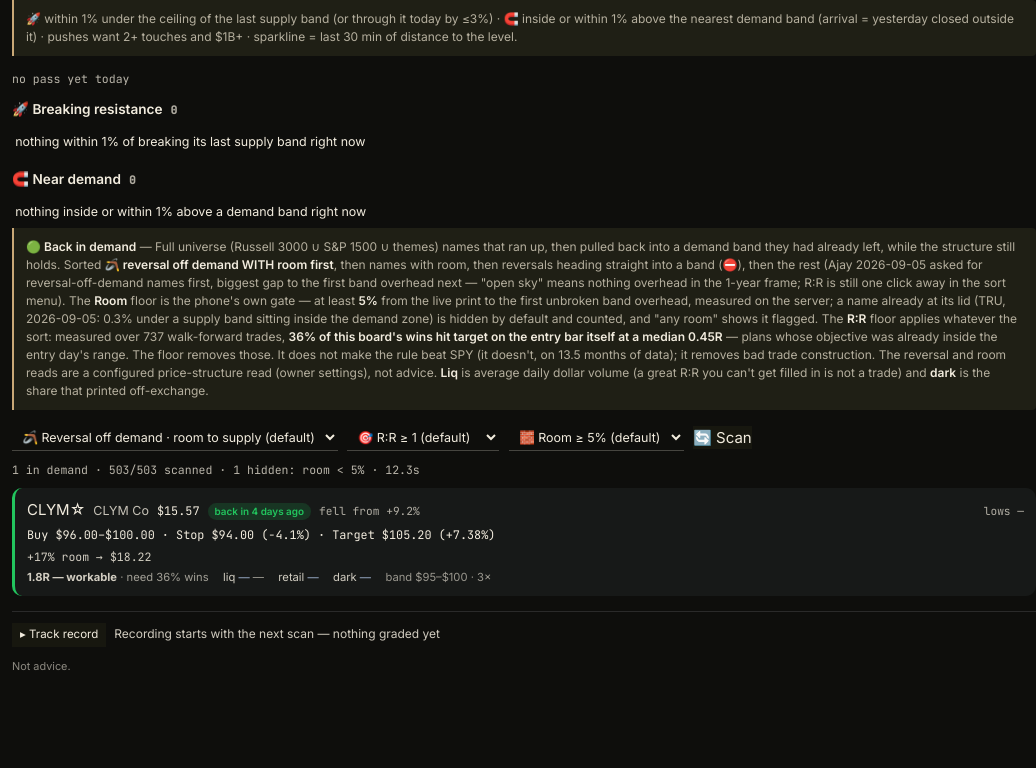
DemandReentryPanel — 5% room floor (Ajay 2026-09-05, TRU) › "any room" re-asks with min_room=0, shows TRU with the ⛔ flag and drops the hidden count
Check: the link "CLYM" is shown, box [27,500,70,519]
Select "🧱 any room" in the dropdown named "Room floor": (596, 438) [509,424,684,451]
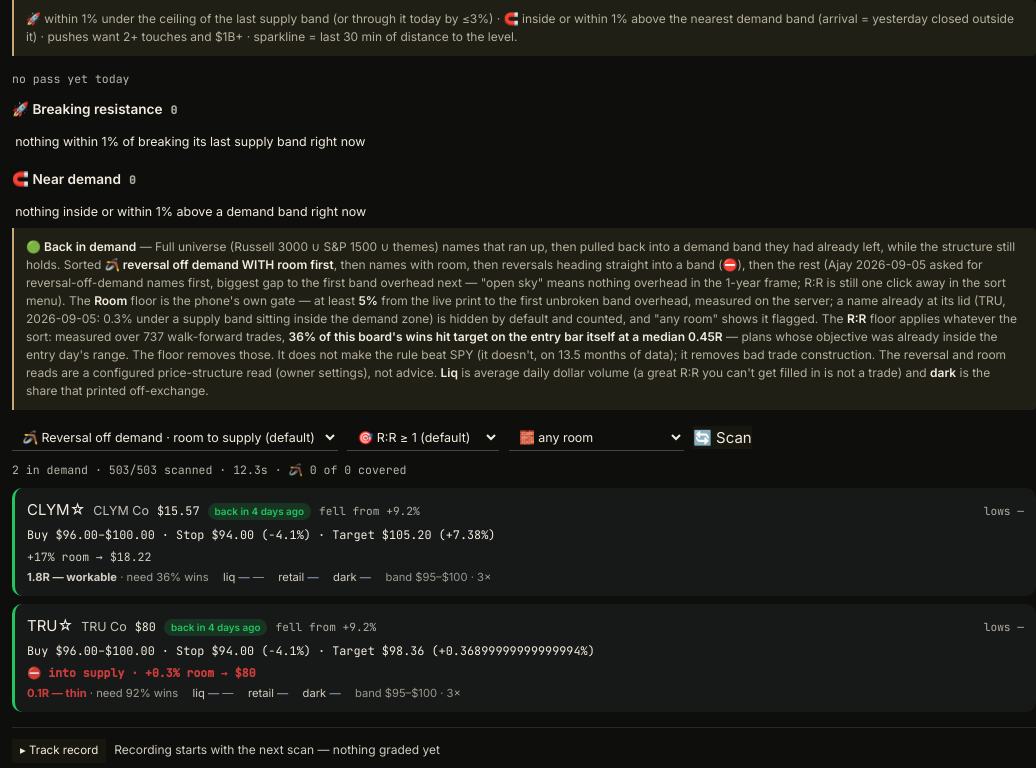
Check: the link "TRU" is shown, box [27,616,58,635]
Check: the text "⛔ into supply · +0.3% room → $80" is shown, box [27,664,256,680]
Check: the text "hidden: room <" is gone
